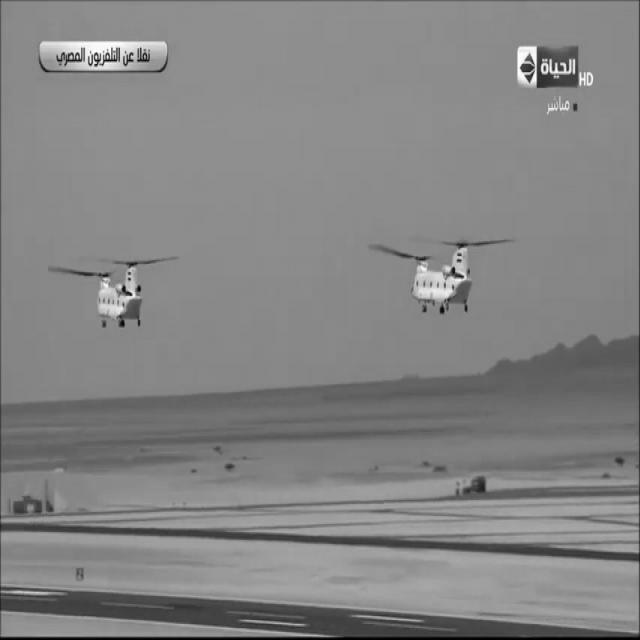helikopter: (373, 227, 503, 331), (66, 233, 176, 349)
